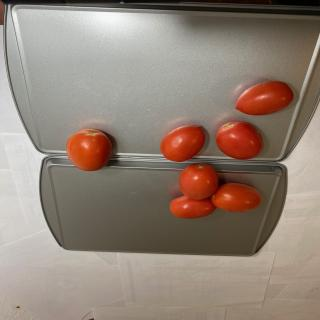Tomato: (235, 80, 294, 116), (66, 129, 112, 171), (216, 121, 264, 160), (160, 125, 205, 162), (211, 182, 262, 212), (178, 163, 218, 200), (170, 195, 217, 219)
